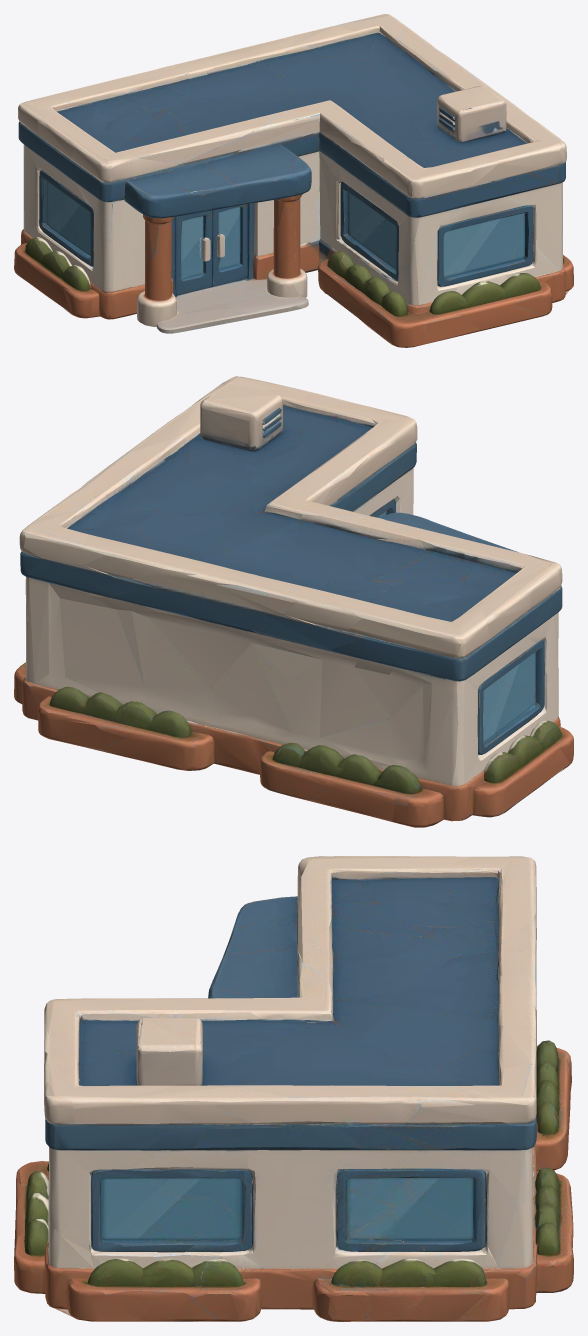
Rendered from bankBuilding.glb.
3 views of the same model, one above another, from view 1: azimuth 30°, elevation 25°; view 2: azimuth 150°, elevation 25°; view 3: azimuth 270°, elevation 25° (orthographic). The views are drawn at different scales.
Parts seen in each view (by area): view 1: Mesh_0; view 2: Mesh_0; view 3: Mesh_0.
Boxes of the visible parts, box(x1,y1,x2,y2) form: Mesh_0: box(14, 14, 573, 347); Mesh_0: box(14, 376, 573, 827); Mesh_0: box(14, 856, 573, 1321).
Bounding box in the file's own units: 3.2 × 1.35 × 2.79.
Materials: 1 (1 with a texture image).
